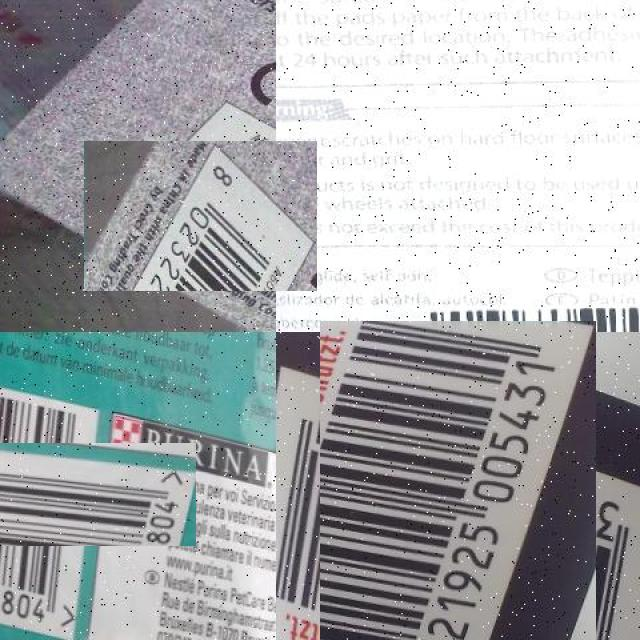Barcode: (298, 342, 618, 640), (105, 119, 296, 312), (0, 396, 150, 592), (409, 293, 640, 332)
